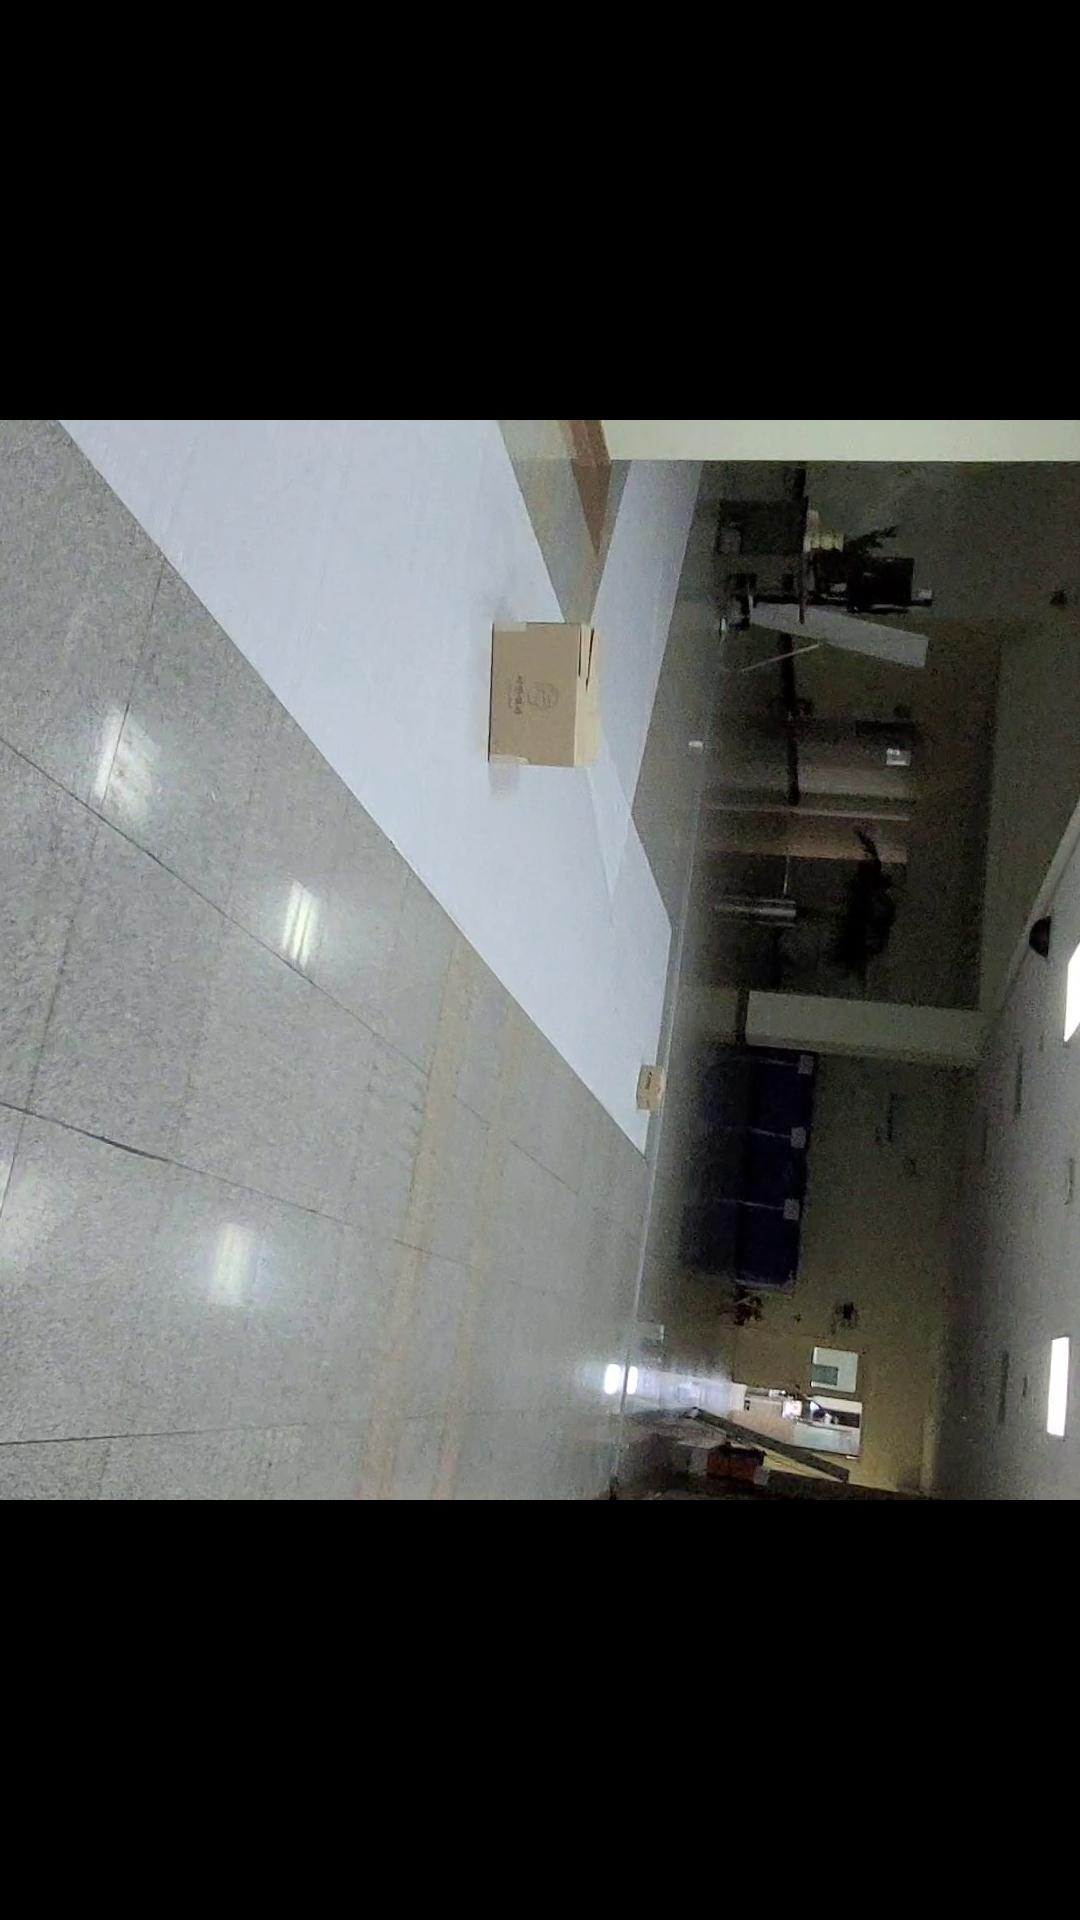Box: (475, 588, 612, 795), (618, 1063, 675, 1127)
